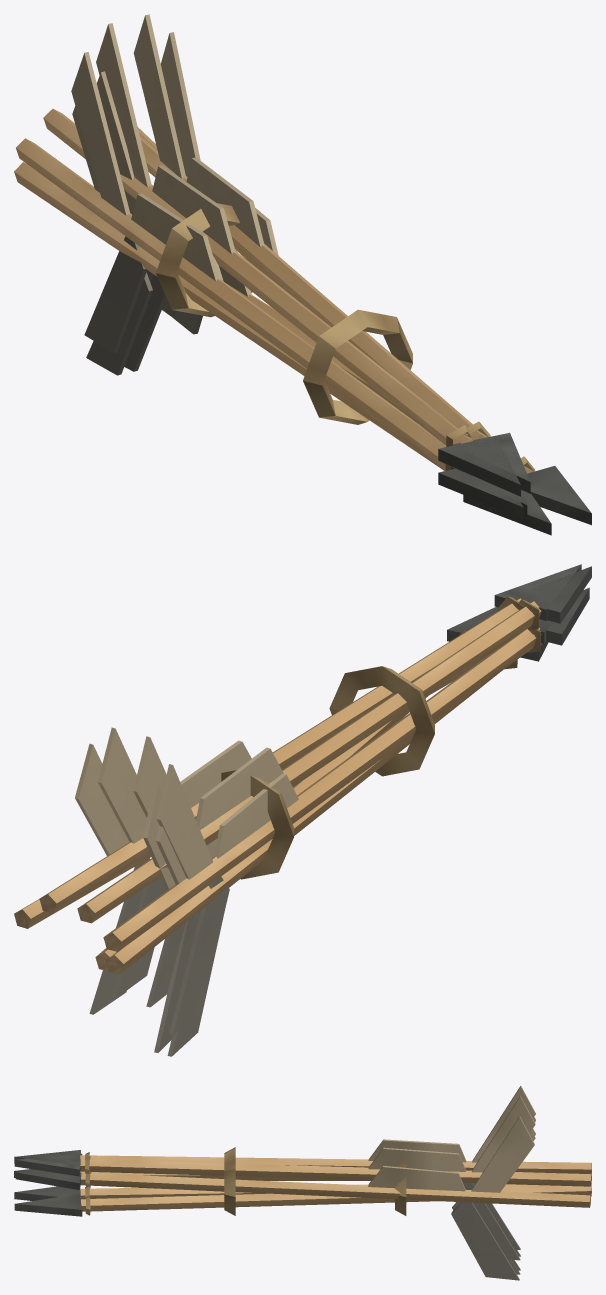
File: SM_ArrowBundle.fbx
3 renders of one model, top to bottom at view 1: azimuth 30°, elevation 25°; view 2: azimuth 150°, elevation 25°; view 3: azimuth 270°, elevation 25°, orthographic. The views are drawn at different scales.
Visible parts, largest first — view 1: SM_ArrowBundle; view 2: SM_ArrowBundle; view 3: SM_ArrowBundle.
Boxes of the visible parts, x1,y1,x2,y2 form: SM_ArrowBundle: (14, 14, 591, 535); SM_ArrowBundle: (14, 564, 591, 1056); SM_ArrowBundle: (14, 1085, 591, 1280).
Bounding box in the file's own units: 0.4745 × 1.11 × 3.05.
Materials: 1 (1 with a texture image).
